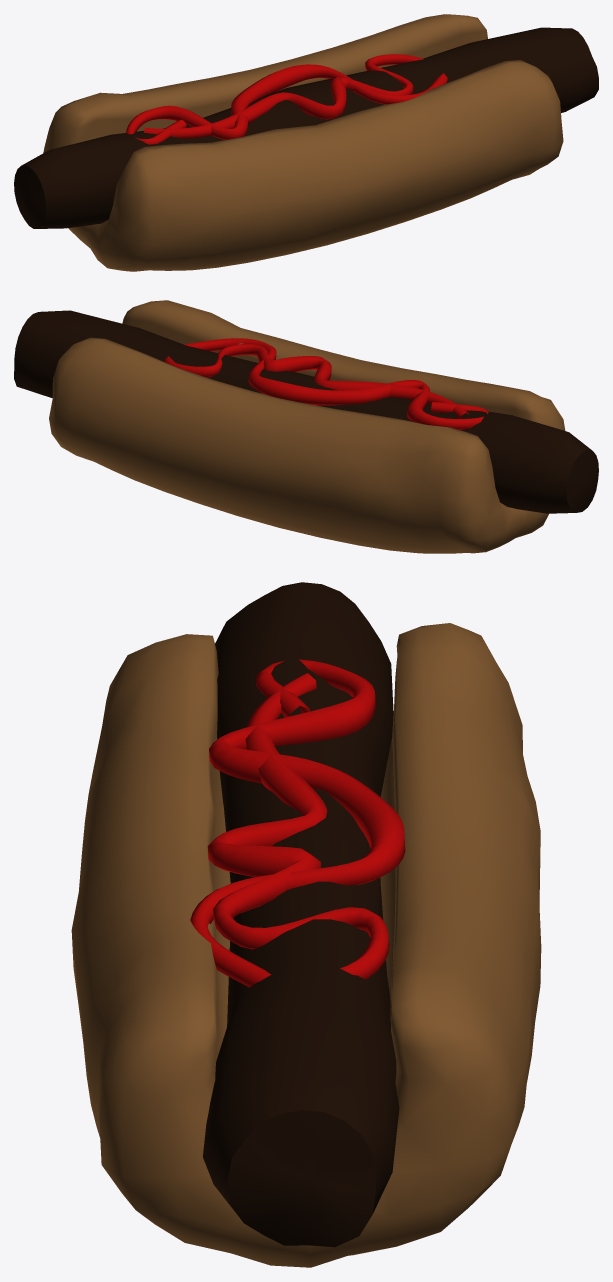
3 renders of one model, top to bottom at view 1: azimuth 30°, elevation 25°; view 2: azimuth 150°, elevation 25°; view 3: azimuth 270°, elevation 25°, orthographic. The views are drawn at different scales.
Parts seen in each view (by area): view 1: hotdog.001; view 2: hotdog.001; view 3: hotdog.001.
Part boxes in pixels (bbox=[...]): hotdog.001: bbox=[14, 14, 598, 271]; hotdog.001: bbox=[14, 300, 598, 553]; hotdog.001: bbox=[71, 582, 541, 1267].
Size of the model in its own units: 3.01 by 0.7735 by 1.09.
